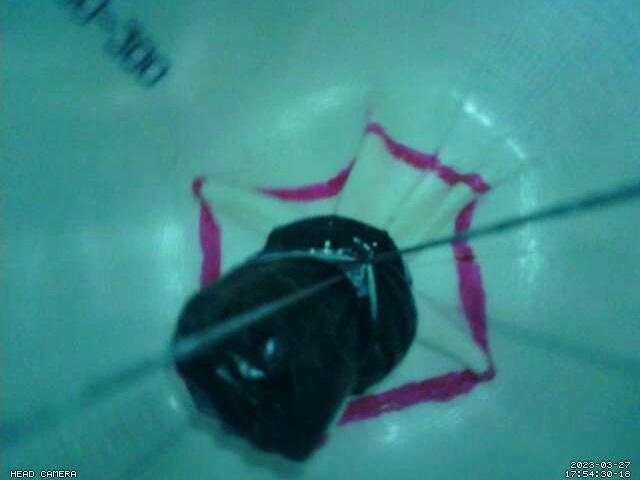red-circle: (190, 121, 498, 427)
